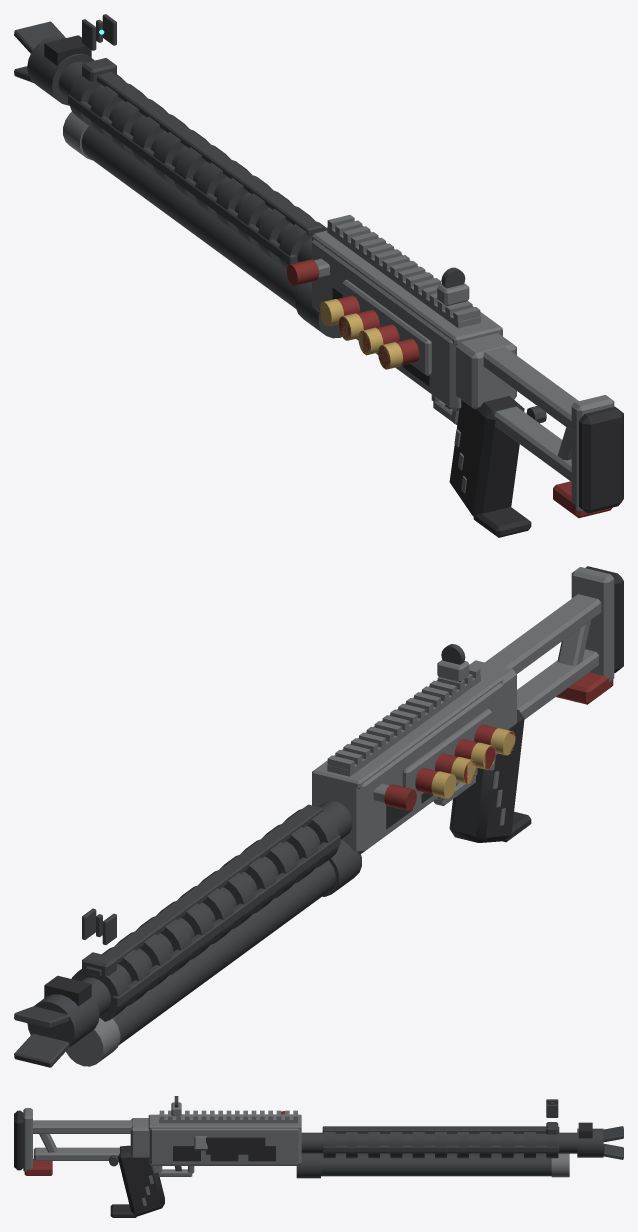
Rendered from autoshotgun.glb.
3 renders of one model, top to bottom at view 1: azimuth 30°, elevation 25°; view 2: azimuth 150°, elevation 25°; view 3: azimuth 270°, elevation 25°, orthographic. The views are drawn at different scales.
Parts seen in each view (by area): view 1: AUTOSHOTGUN_Steel, AUTOSHOTGUN_Tungsten, AUTOSHOTGUN_Polymer, AUTOSHOTGUN_Brass, AUTOSHOTGUN_Hull, AUTOSHOTGUN_Crimson; view 2: AUTOSHOTGUN_Steel, AUTOSHOTGUN_Tungsten, AUTOSHOTGUN_Polymer, AUTOSHOTGUN_Brass, AUTOSHOTGUN_Crimson, AUTOSHOTGUN_Hull; view 3: AUTOSHOTGUN_Steel, AUTOSHOTGUN_Tungsten, AUTOSHOTGUN_Polymer, AUTOSHOTGUN_Crimson.
Part boxes in pixels (x1,y1,x2,y2): AUTOSHOTGUN_Steel: (14,14,546,423); AUTOSHOTGUN_Tungsten: (63,112,614,511); AUTOSHOTGUN_Polymer: (44,35,623,537); AUTOSHOTGUN_Brass: (319,299,402,369); AUTOSHOTGUN_Hull: (319,295,419,368); AUTOSHOTGUN_Crimson: (286,259,612,518); AUTOSHOTGUN_Steel: (14,644,465,1067); AUTOSHOTGUN_Tungsten: (66,567,614,1066); AUTOSHOTGUN_Polymer: (44,566,623,1006); AUTOSHOTGUN_Brass: (431,728,515,798); AUTOSHOTGUN_Crimson: (384,672,613,810); AUTOSHOTGUN_Hull: (415,724,514,794); AUTOSHOTGUN_Steel: (109,1096,623,1178); AUTOSHOTGUN_Tungsten: (23,1102,569,1206); AUTOSHOTGUN_Polymer: (14,1110,592,1217); AUTOSHOTGUN_Crimson: (24,1111,284,1175).
Size of the model in its own units: 0.0855 by 0.1862 by 0.8766.
